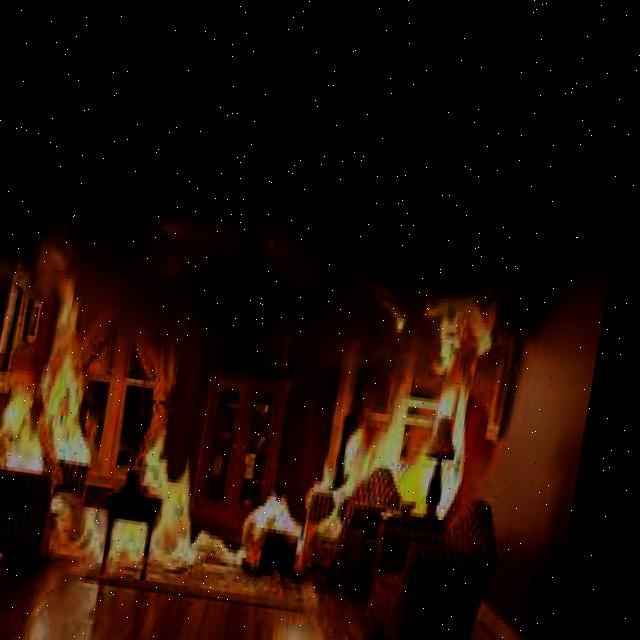Fire: (334, 239, 510, 504), (0, 255, 130, 473), (116, 404, 229, 568), (247, 476, 330, 576)
